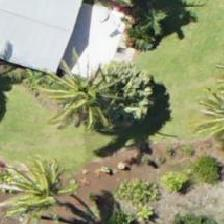coconut_tree: (44, 47, 134, 137), (0, 146, 87, 223)
